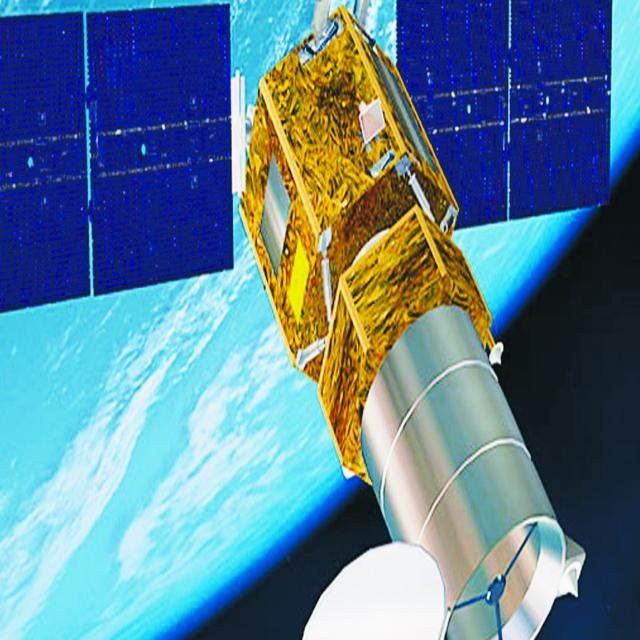medium_debris: (0, 1, 628, 640)
